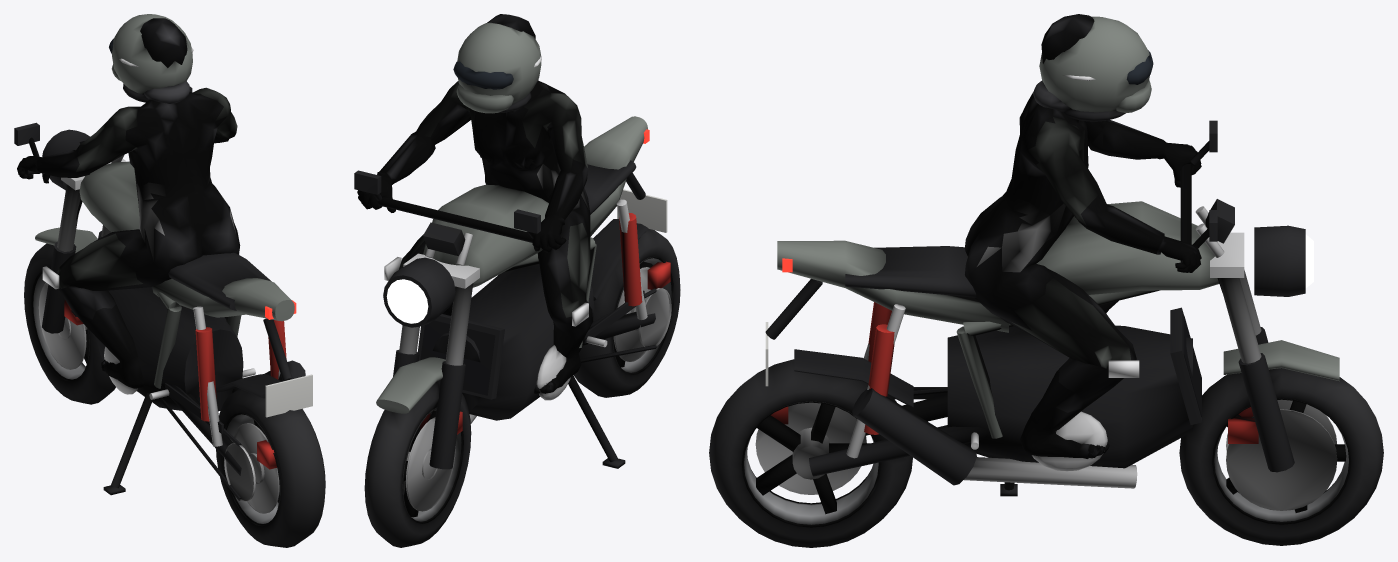
Rendered from nomad.glb.
3 views of the same model, side by side, from view 1: azimuth 30°, elevation 25°; view 2: azimuth 150°, elevation 25°; view 3: azimuth 270°, elevation 25° (orthographic). The views are drawn at different scales.
Visible parts, largest first — view 1: Body, Rider, Wheel_R, Wheel_F, RiderGear, Stand; view 2: Body, Rider, Wheel_F, Wheel_R, RiderGear, Stand; view 3: Body, Rider, Wheel_F, Wheel_R, RiderGear.
Boxes of the visible parts, x1=… form: Body: x1=14, y1=86, x2=312, y2=501; Rider: x1=17, y1=18, x2=240, y2=388; Wheel_R: x1=216, y1=388, x2=325, y2=547; Wheel_F: x1=24, y1=243, x2=115, y2=404; RiderGear: x1=42, y1=14, x2=238, y2=289; Stand: x1=103, y1=393, x2=152, y2=495; Body: x1=354, y1=116, x2=671, y2=469; Rider: x1=357, y1=14, x2=592, y2=393; Wheel_F: x1=364, y1=380, x2=471, y2=547; Wheel_R: x1=574, y1=223, x2=680, y2=397; RiderGear: x1=384, y1=22, x2=588, y2=326; Stand: x1=568, y1=375, x2=625, y2=468; Body: x1=765, y1=120, x2=1339, y2=488; Rider: x1=964, y1=14, x2=1201, y2=458; Wheel_F: x1=1179, y1=368, x2=1383, y2=545; Wheel_R: x1=709, y1=359, x2=912, y2=547; RiderGear: x1=1033, y1=16, x2=1153, y2=377.
Size of the model in its own units: 0.7973 by 1.71 by 1.98.
